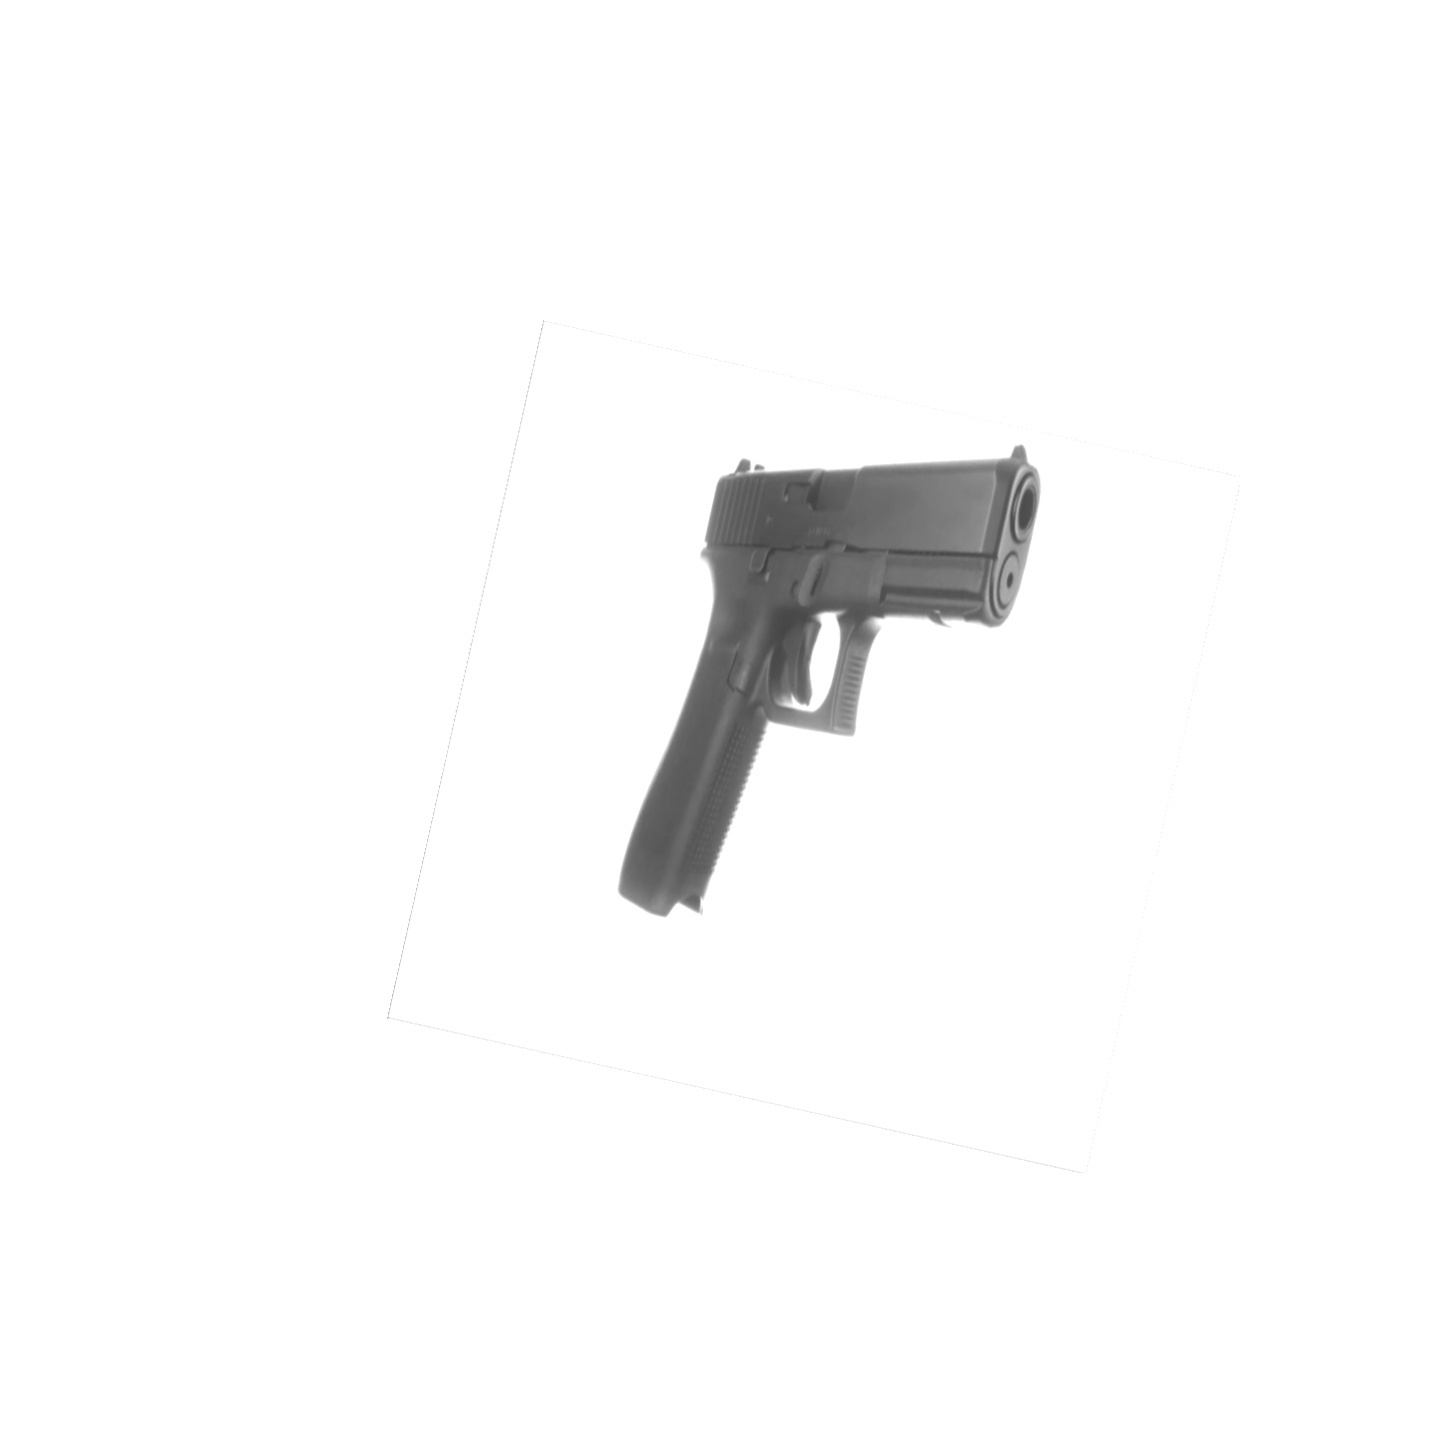gun: (618, 445, 1042, 919)
